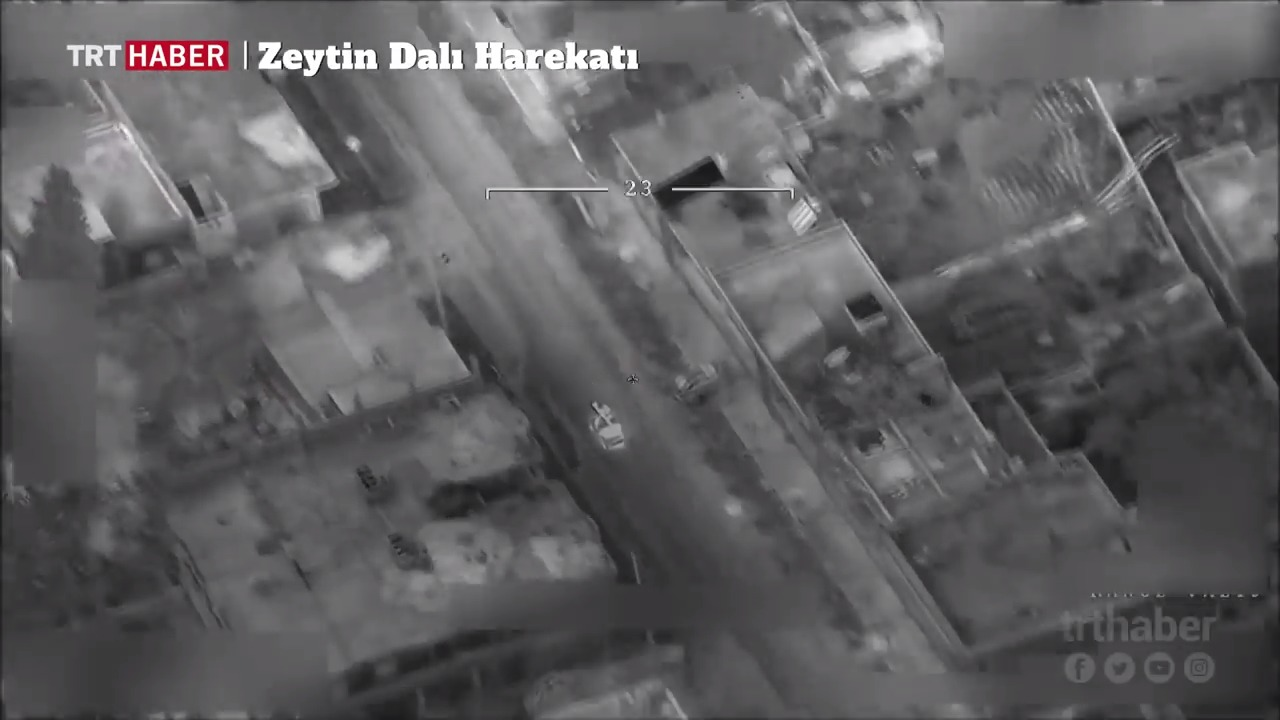arac: (582, 393, 630, 457)
